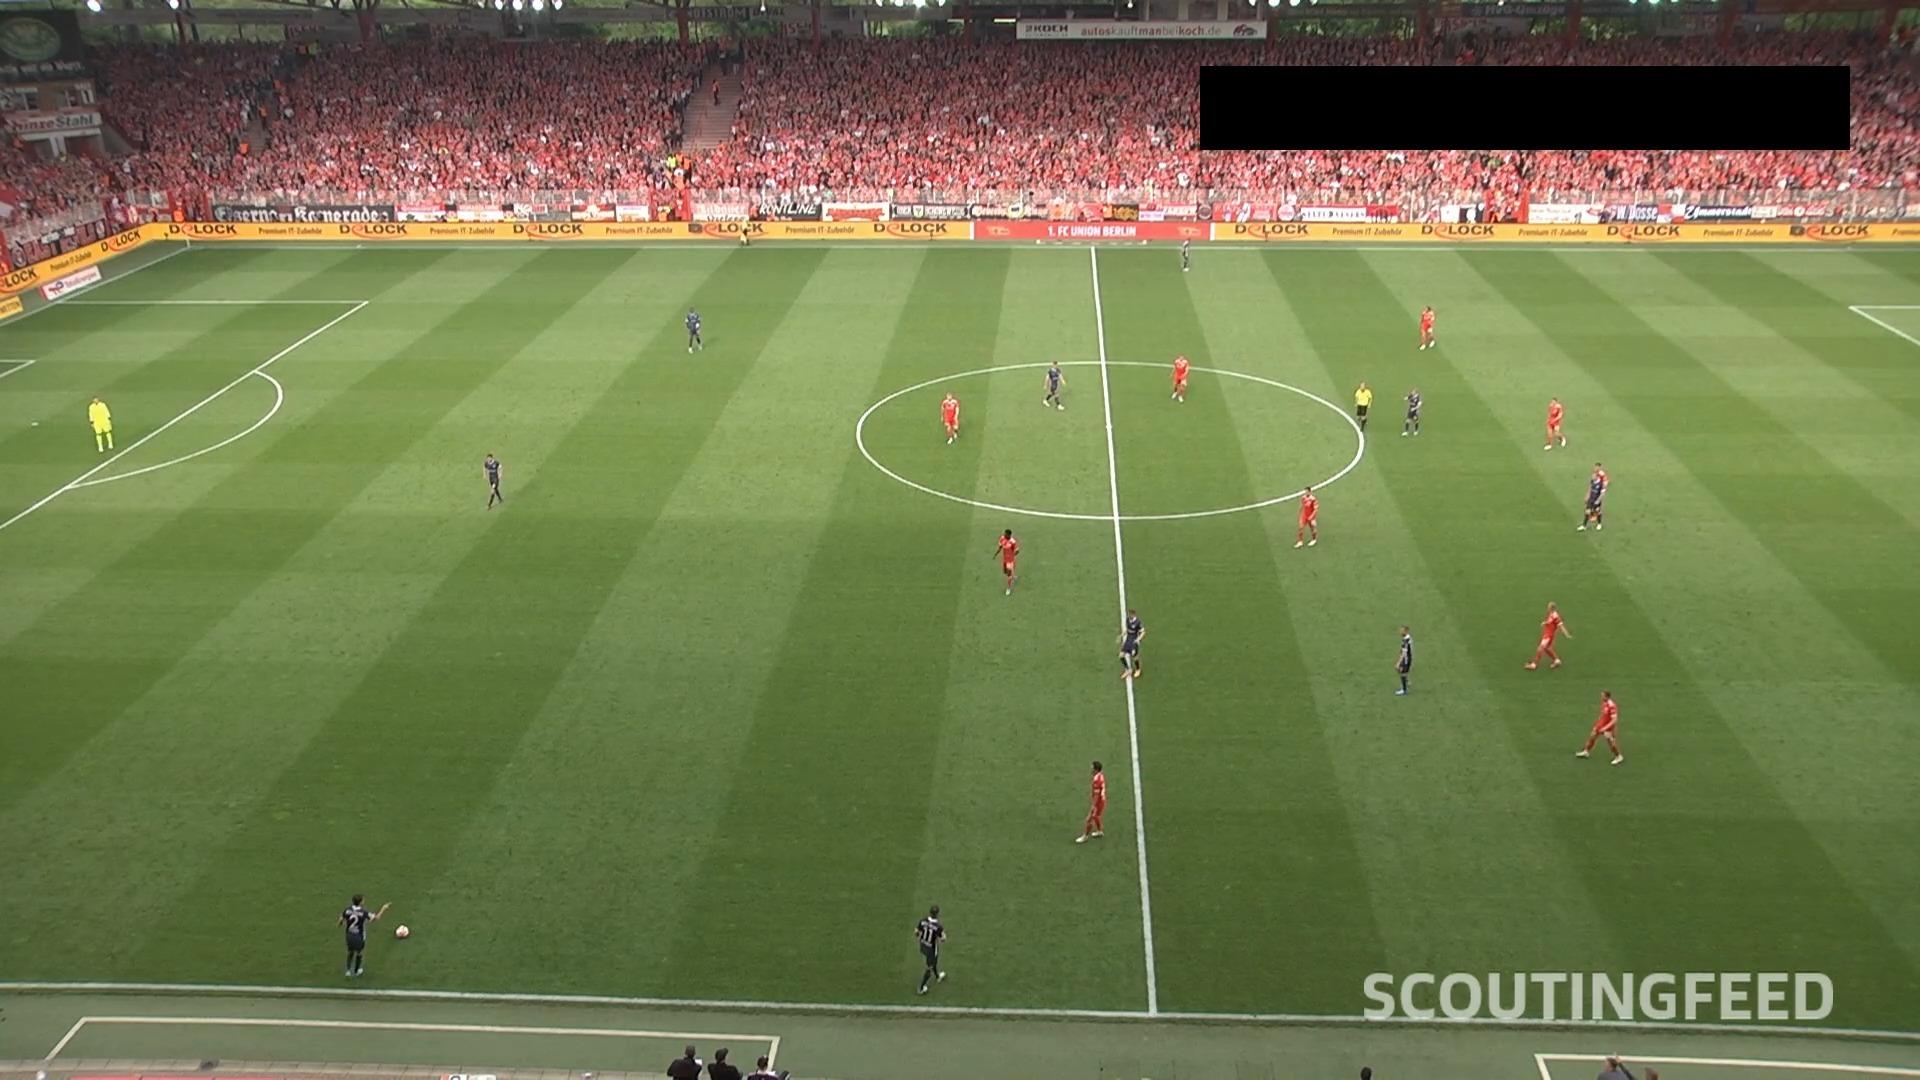ball: (394, 923, 411, 940)
